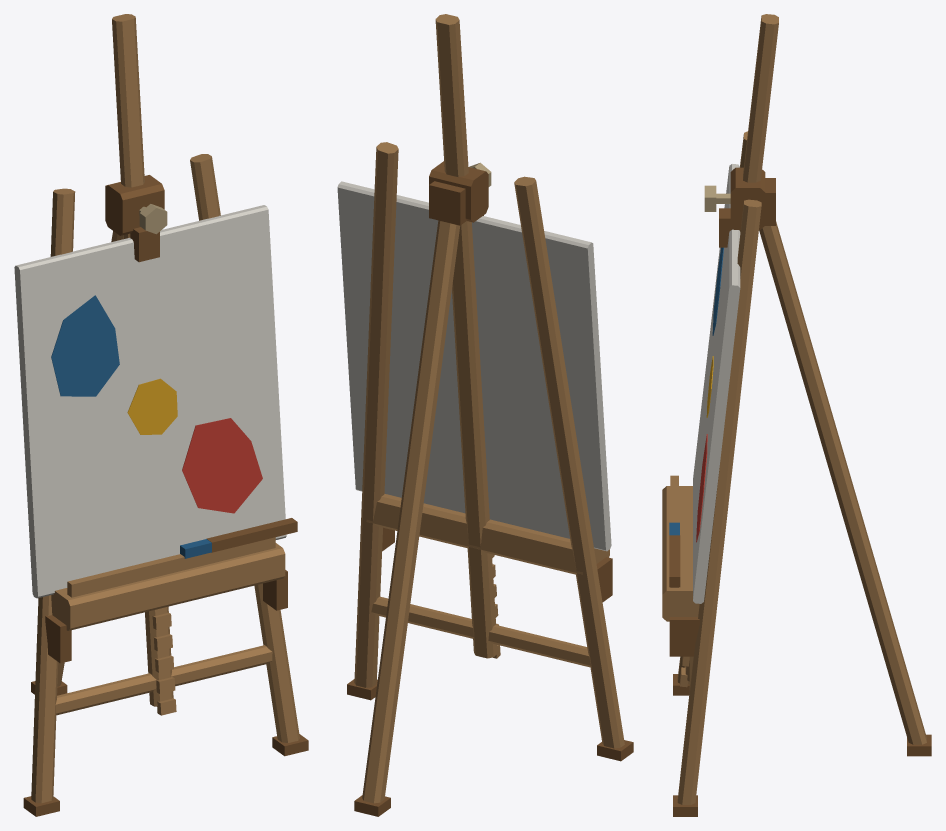
The model's file is art-easel-078422.glb.
3 renders of one model, left to right at view 1: azimuth 30°, elevation 25°; view 2: azimuth 150°, elevation 25°; view 3: azimuth 270°, elevation 25°, orthographic.
Visible parts, largest first — view 1: carriage, object 1; view 2: carriage, object 1; view 3: object 1, carriage.
Boxes of the visible parts, x1,y1,x2,y2 form: carriage: (14,175,297,663); object 1: (23,14,308,816); carriage: (337,161,612,601); object 1: (347,14,633,816); object 1: (673,14,931,816); carriage: (662,164,765,656).
Bounding box in the file's own units: 0.6246 × 1.6 × 0.5347.
